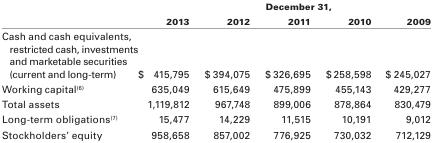table: (0, 0, 429, 139)
table column: (0, 0, 137, 139), (256, 0, 317, 139), (196, 0, 256, 139), (317, 0, 377, 139), (137, 0, 196, 139), (377, 0, 429, 139)
table column header: (0, 0, 429, 27)
table row: (0, 27, 429, 80), (0, 95, 429, 111), (0, 80, 429, 95), (0, 111, 429, 126), (0, 13, 429, 27), (0, 0, 429, 13), (0, 126, 429, 139)
table spanning cell: (137, 0, 429, 13)
